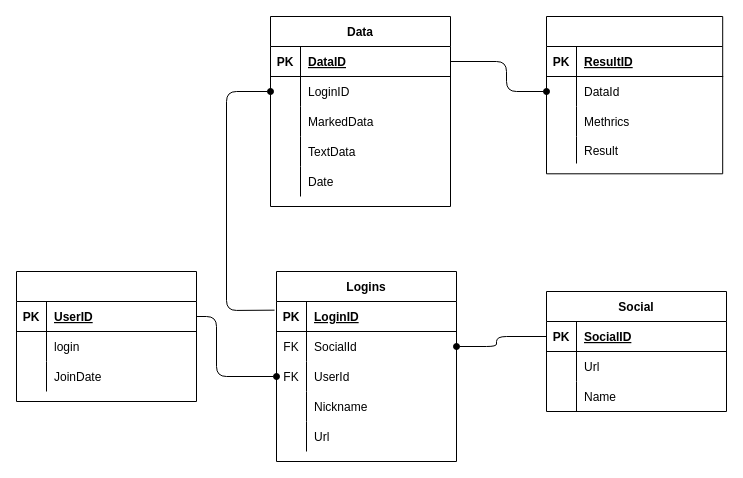
This 743x478 diagram has some shape labels left out. Each missing label, with the box of its shape:
Results: (546, 16, 723, 174)
Users: (16, 270, 196, 402)
